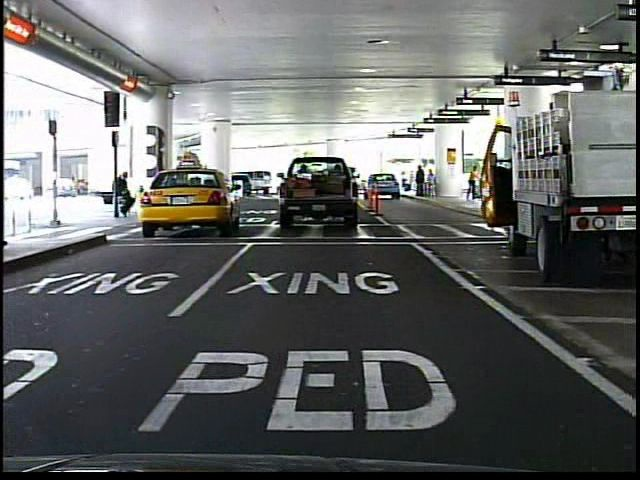person: (115, 164, 138, 221), (462, 160, 481, 204)
